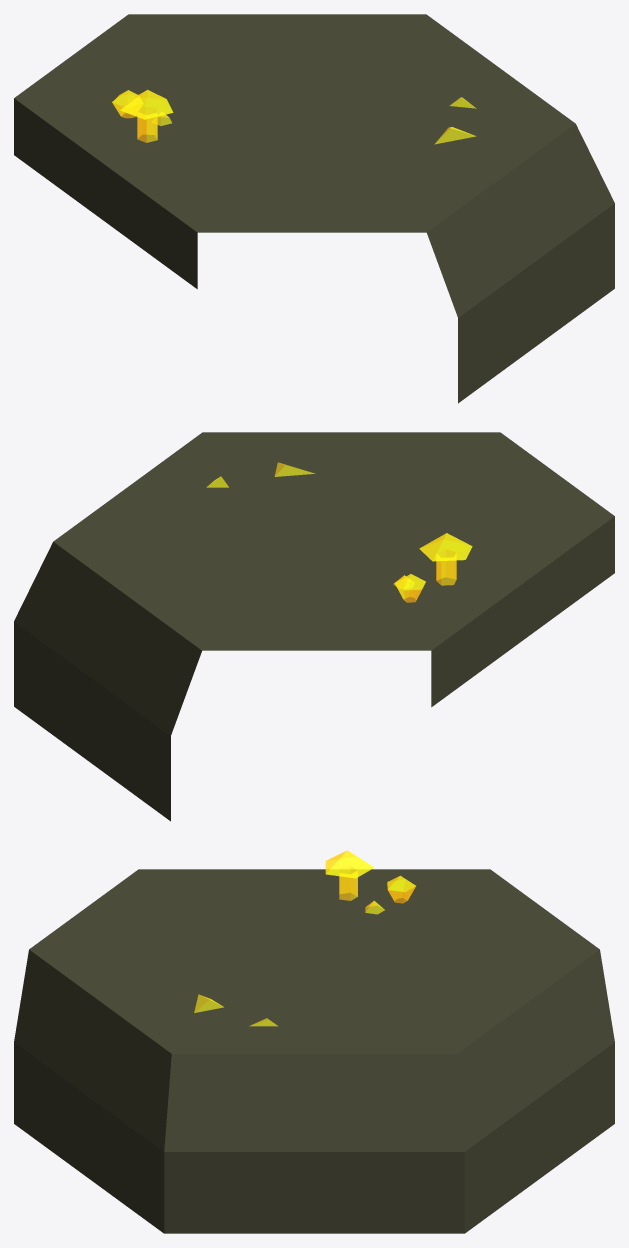
File: nearpointUnit6(1).fbx
3 views of the same model, one above another, from view 1: azimuth 30°, elevation 25°; view 2: azimuth 150°, elevation 25°; view 3: azimuth 270°, elevation 25° (orthographic). The views are drawn at different scales.
Parts seen in each view (by area): view 1: nearpointUnit6(1); view 2: nearpointUnit6(1); view 3: nearpointUnit6(1).
Boxes of the visible parts, x1,y1,x2,y2 form: nearpointUnit6(1): (14, 14, 614, 403); nearpointUnit6(1): (14, 432, 614, 821); nearpointUnit6(1): (14, 850, 614, 1233).
Bounding box in the file's own units: 1.58 × 2 × 0.7714.
